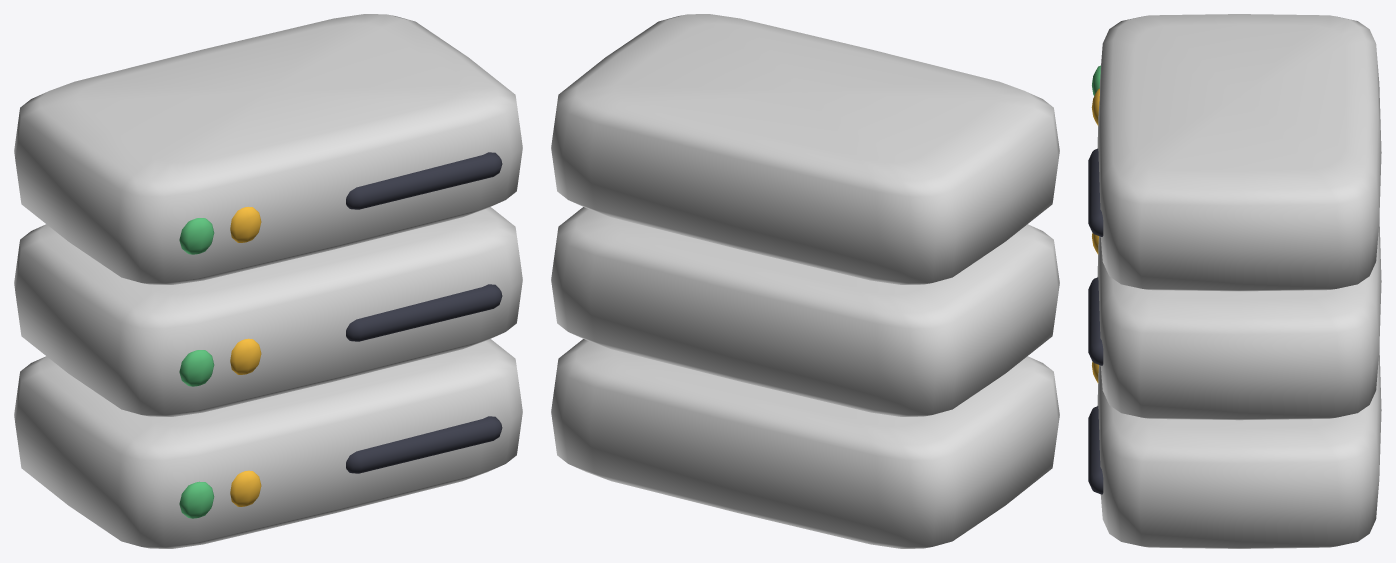
Rendered from server.glb.
3 renders of one model, left to right at view 1: azimuth 30°, elevation 25°; view 2: azimuth 150°, elevation 25°; view 3: azimuth 270°, elevation 25°, orthographic. The views are drawn at different scales.
Parts seen in each view (by area): view 1: server; view 2: server; view 3: server.
Part boxes in pixels (box(x1,y1,x2,y2)): server: box(14, 14, 522, 548); server: box(551, 14, 1059, 548); server: box(1088, 14, 1381, 548).
Bounding box in the file's own units: 1 × 0.8846 × 0.6346.
